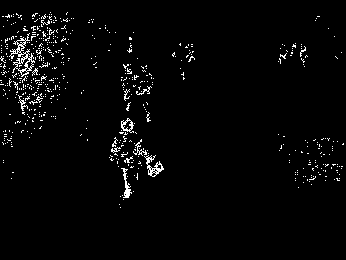person: (107, 116, 166, 201), (131, 62, 156, 124)
